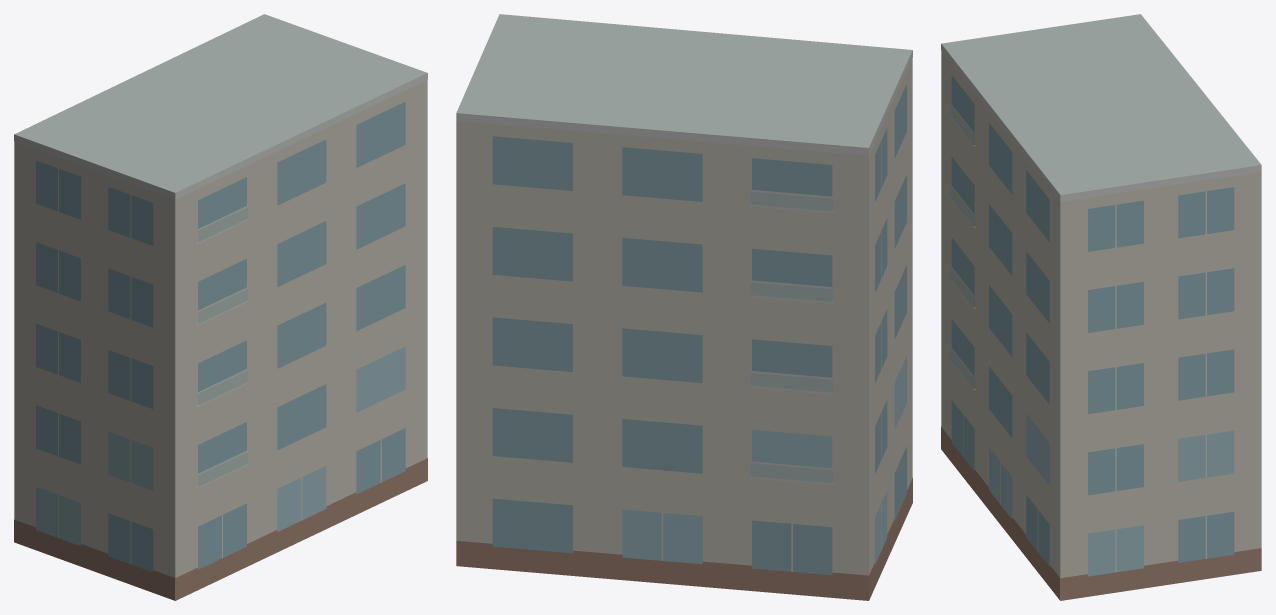
File: survey-upis-32812365.glb
3 views of the same model, side by side, from view 1: azimuth 30°, elevation 25°; view 2: azimuth 150°, elevation 25°; view 3: azimuth 270°, elevation 25° (orthographic). The views are drawn at different scales.
Parts seen in each view (by area): view 1: survey-upis-32812365.tmp; view 2: survey-upis-32812365.tmp; view 3: survey-upis-32812365.tmp.
Part boxes in pixels (<box>): survey-upis-32812365.tmp: <box>14,14,427,600</box>; survey-upis-32812365.tmp: <box>456,14,912,600</box>; survey-upis-32812365.tmp: <box>941,14,1261,600</box>.
Size of the model in its own units: 13.84 by 14.45 by 10.35.
